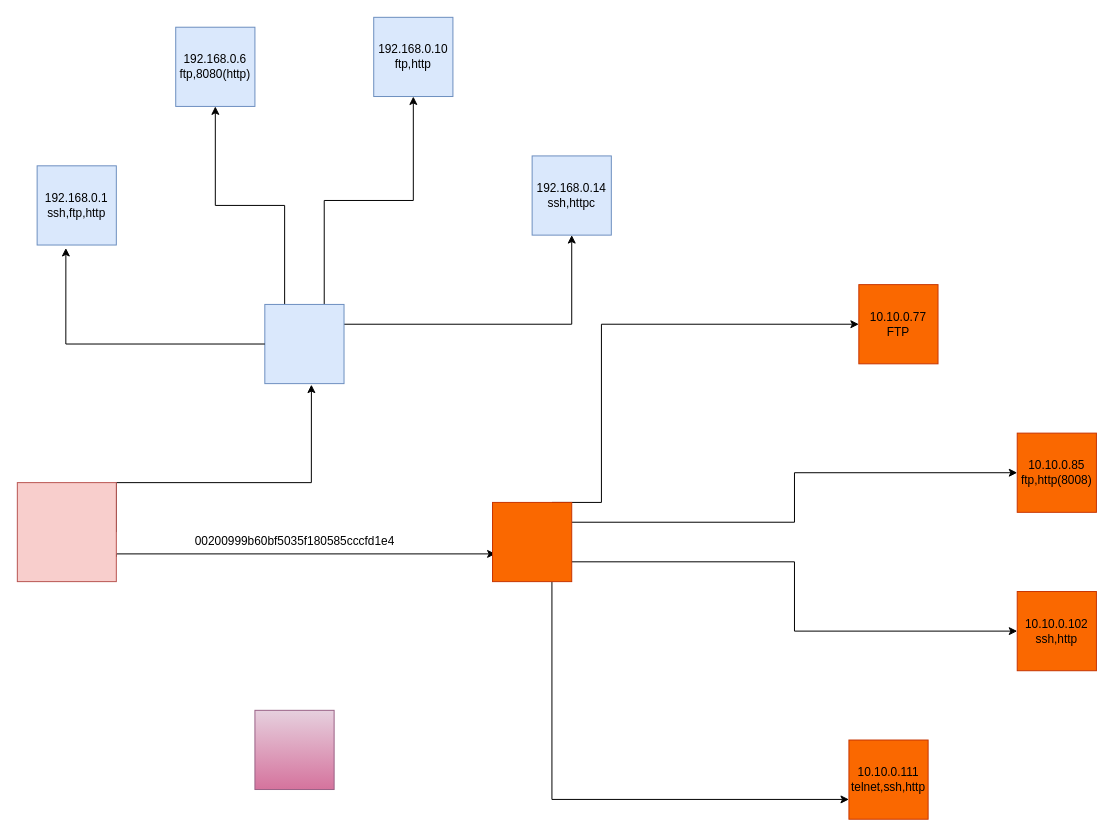
Some shapes in this 1114 by 837 pixel diagram are drawn without their labels. The shapes that lost their labels are listed below. From the top down, each one's centre as x and y in pixels, then its label:
pixel 304 343: 172.16.0.66 ssh,http
pixel 532 541: 172.16.0.101 telnet,http
pixel 294 749: 172.16.0.92 http
